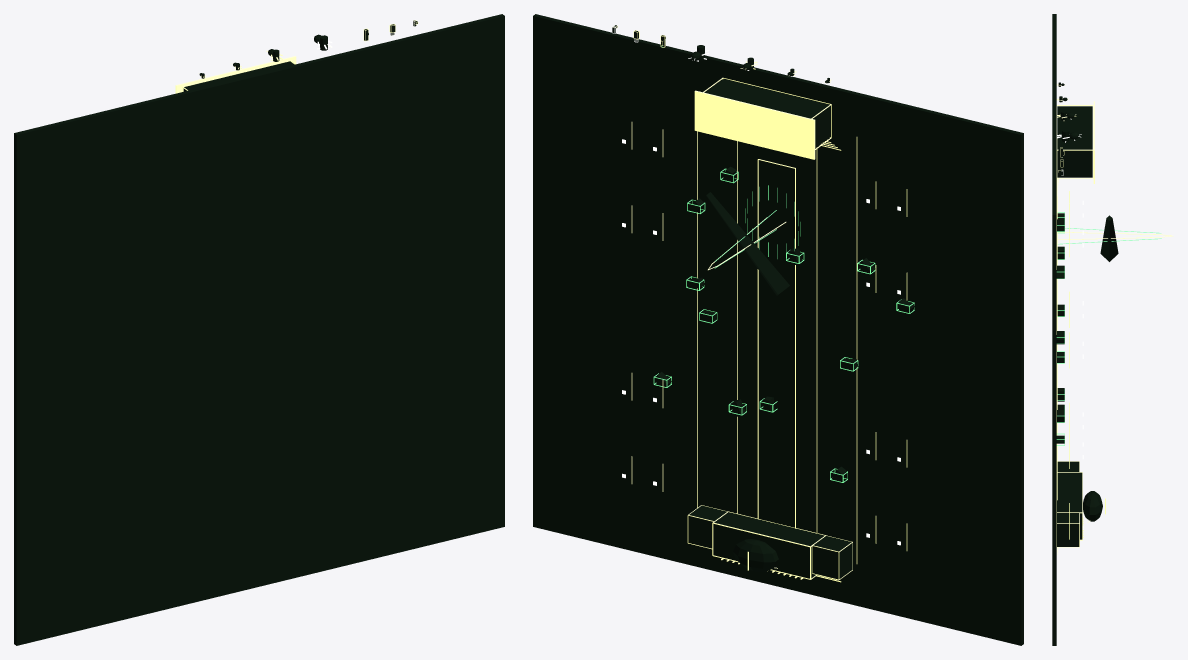
The model's file is neon_mall_kit.glb.
3 views of the same model, side by side, from view 1: azimuth 30°, elevation 25°; view 2: azimuth 150°, elevation 25°; view 3: azimuth 270°, elevation 25° (orthographic). The views are drawn at different scales.
Parts seen in each view (by area): view 1: Mall_Ground; view 2: Mall_Ground, Reflecting_Pool, Lincoln_Roof, Capitol_Core, Lincoln_Core, Capitol_Wing, Washington_Monument_Core, Capitol_Dome, Capitol_Wing.001, Mall_Path_Ink, Mall_Path_Ink.001; view 3: Mall_Ground, Lincoln_Core, Capitol_Core, Capitol_Wing.001, Washington_Monument_Core, Capitol_Dome, Mall_Path_Ink.003, Capitol_Wing, Reflecting_Pool_Ink.011.
Part boxes in pixels (x1,y1,x2,y2): Mall_Ground: [14, 14, 504, 645]; Mall_Ground: [533, 14, 1023, 645]; Reflecting_Pool: [759, 160, 794, 527]; Lincoln_Roof: [694, 90, 815, 159]; Capitol_Core: [713, 512, 824, 578]; Lincoln_Core: [705, 79, 830, 147]; Capitol_Wing: [812, 536, 852, 579]; Washington_Monument_Core: [706, 192, 789, 295]; Capitol_Dome: [733, 539, 778, 571]; Capitol_Wing.001: [688, 505, 726, 548]; Mall_Path_Ink: [856, 137, 857, 563]; Mall_Path_Ink.001: [816, 147, 817, 532]; Mall_Ground: [1052, 14, 1056, 645]; Lincoln_Core: [1057, 106, 1092, 177]; Capitol_Core: [1057, 472, 1082, 539]; Capitol_Wing.001: [1057, 513, 1079, 546]; Washington_Monument_Core: [1100, 215, 1118, 261]; Capitol_Dome: [1083, 491, 1102, 521]; Mall_Path_Ink.003: [1056, 183, 1056, 542]; Capitol_Wing: [1057, 461, 1079, 471]; Reflecting_Pool_Ink.011: [1057, 196, 1057, 500].
Size of the model in its own units: 110 by 113 by 28.02.
